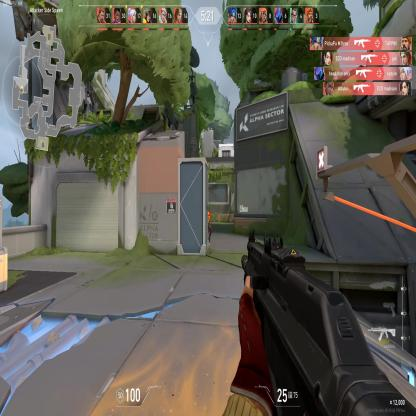enemy: (208, 206, 212, 245)
